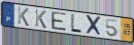5: (104, 18, 118, 38)
E: (50, 11, 67, 33)
K: (34, 8, 48, 30), (17, 6, 30, 28)
L: (69, 13, 83, 35)
X: (85, 14, 103, 37)
